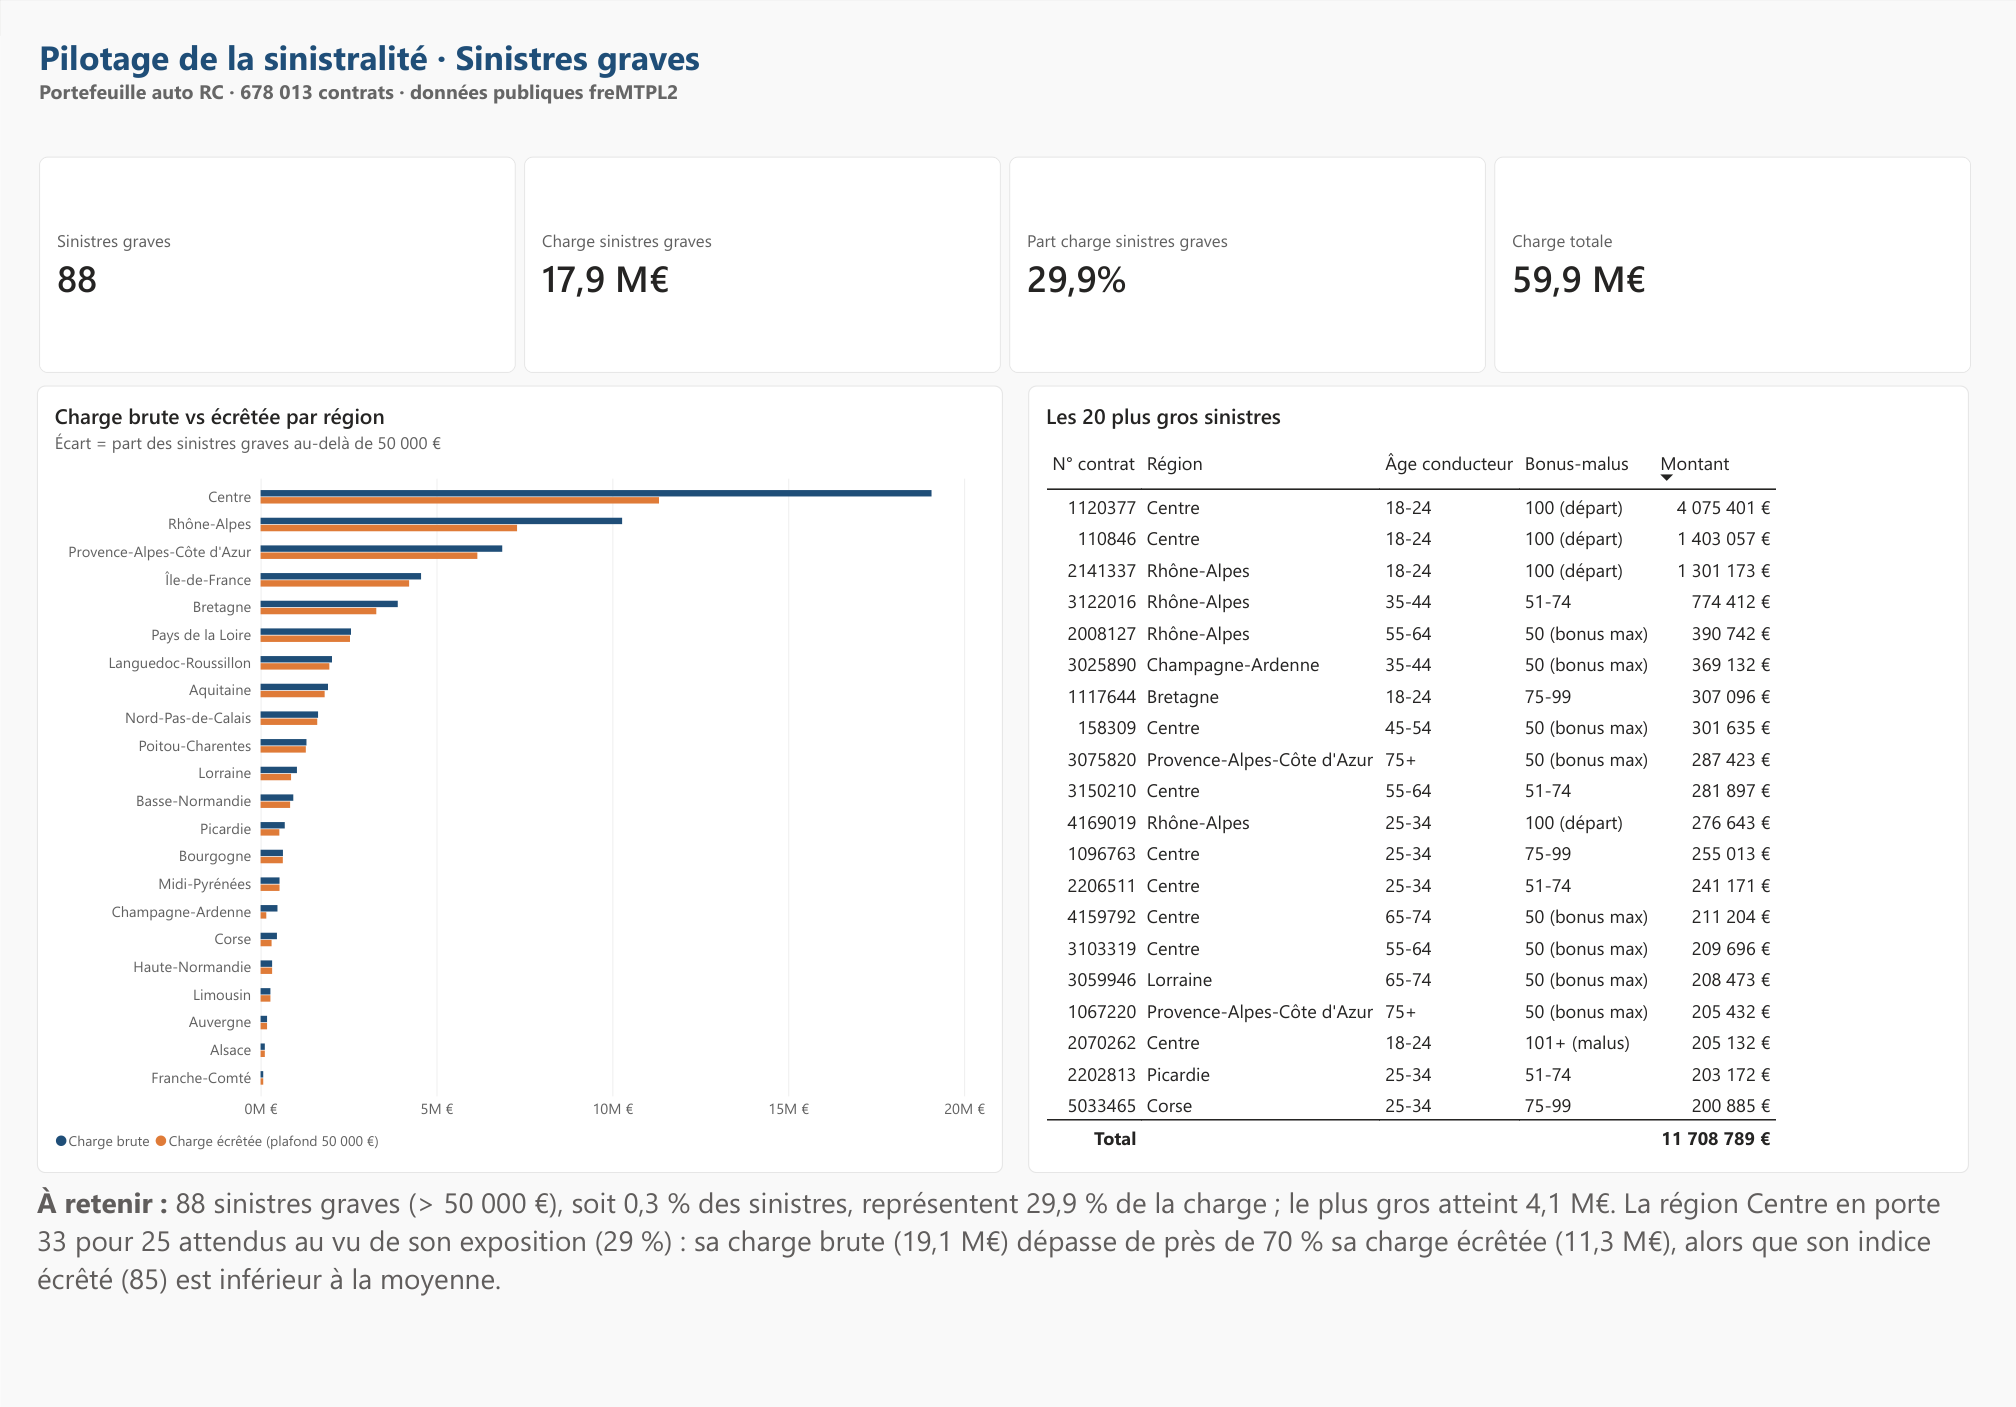

Layout of this report page (visuals, bound fields, positions):
{"tool":"powerbi","page":{"name":"Sinistres graves","canvas":[1920,1340],"ordinal":3},"visuals":[{"type":"cardVisual","fields":{"Data":["_Mesures.Sinistres graves","_Mesures.Carte charge graves","_Mesures.Part charge sinistres graves","_Mesures.Carte charge totale"]},"box":[37.3,149.3,1840,206],"z":0},{"type":"clusteredBarChart","title":"Charge brute vs écrêtée par région","fields":{"Category":["dim_region.region_name"],"Y":["_Mesures.Charge sinistres","_Mesures.Charge écrêtée"]},"box":[35.3,366.7,920,750],"z":1},{"type":"tableEx","title":"Les 20 plus gros sinistres","fields":{"Values":["fact_claim.policy_id","dim_region.region_name","dim_driver_age_band.driver_age_band","dim_bonus_malus_band.bonus_malus_band","Sum(fact_claim.claim_amount)"]},"box":[979.3,366.7,896,750],"z":2},{"type":"textbox","box":[34.9,1125.8,1840.5,144.5],"z":3},{"type":"textbox","box":[37.3,31.4,1837.3,117.9],"z":4}]}

Visuals, with their boxes in screenshot pixels (x1, y1, x2, y2), scaled from the page's 1920x1340 canvas onto the 2016x1407 screenshot:
cardVisual - _Mesures.Sinistres graves x _Mesures.Carte charge graves: detection(39, 157, 1971, 373)
"Charge brute vs écrêtée par région" clusteredBarChart: detection(37, 385, 1003, 1173)
"Les 20 plus gros sinistres" tableEx: detection(1028, 385, 1969, 1173)
textbox: detection(37, 1182, 1969, 1334)
textbox: detection(39, 33, 1968, 157)
